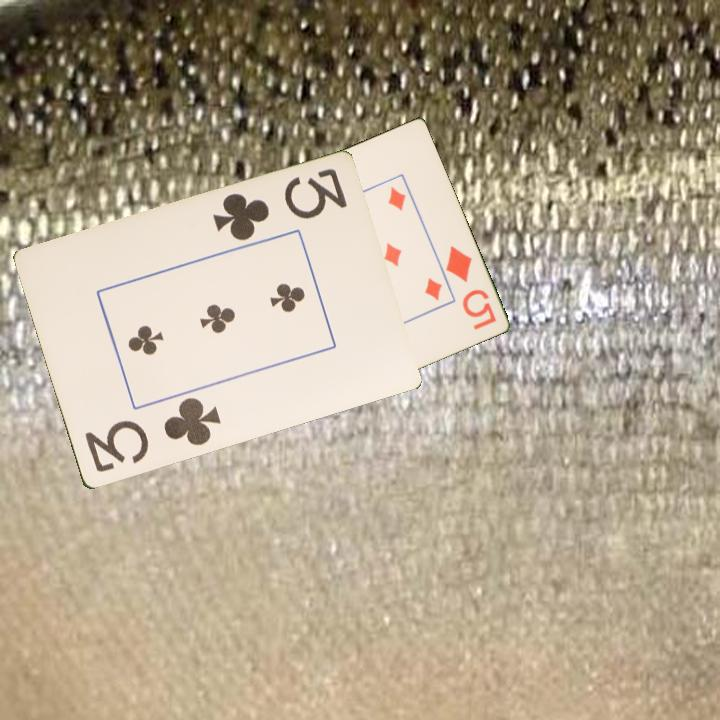3c: (80, 394, 224, 476), (208, 165, 350, 245)
5d: (442, 242, 499, 333)
